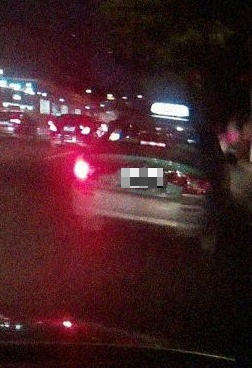L_light: (72, 158, 118, 180)
R_light: (167, 170, 214, 195)
T_light: (140, 140, 166, 147)
night-left: (71, 114, 217, 254)
plate_1: (121, 168, 163, 188)
